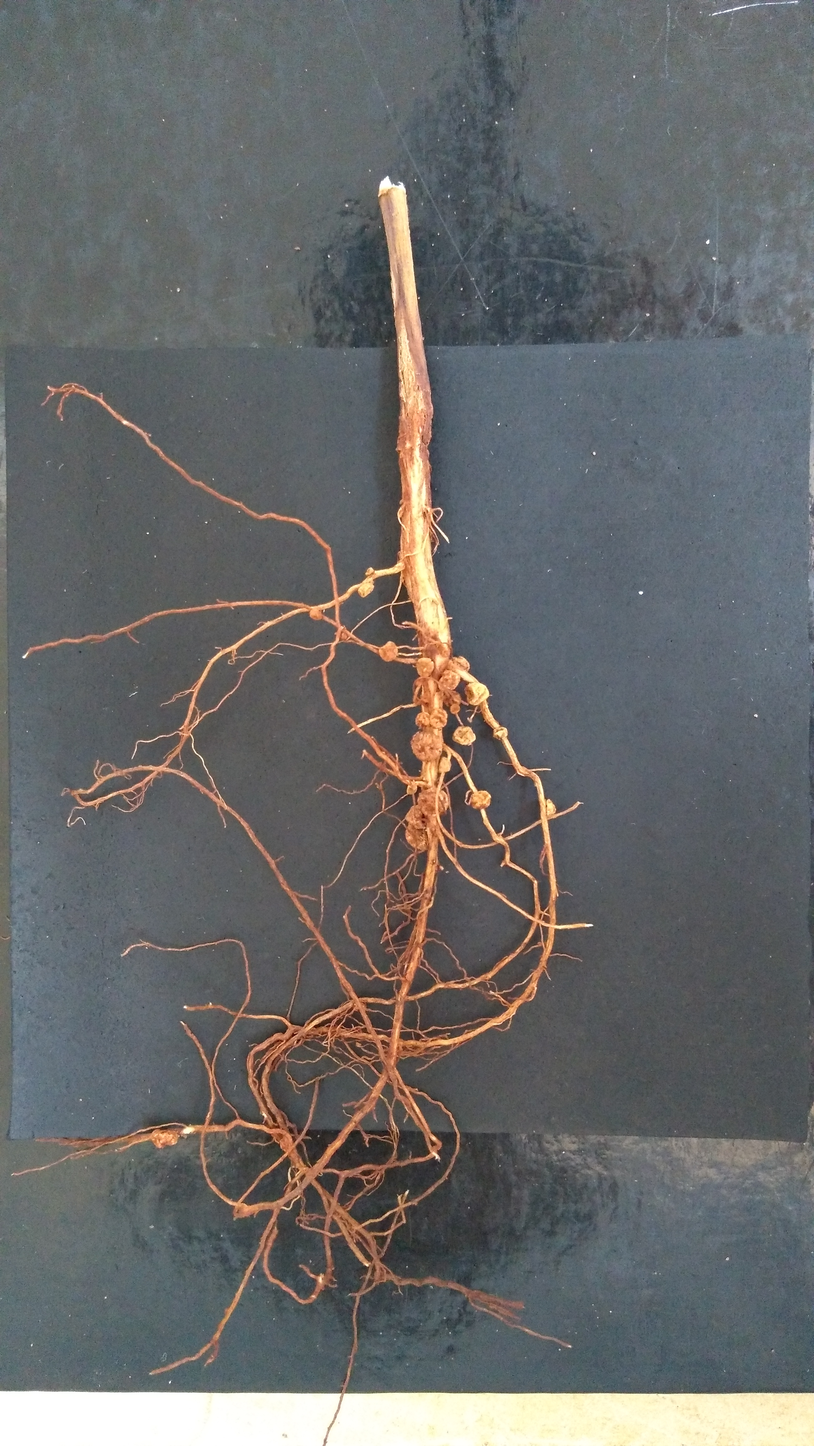nodule: (409, 728, 444, 762), (415, 786, 450, 816), (401, 822, 430, 852), (463, 680, 492, 707), (149, 1127, 180, 1151), (404, 804, 427, 830), (450, 725, 478, 746), (414, 655, 437, 679), (439, 667, 462, 691), (378, 638, 400, 663), (468, 789, 493, 811), (428, 707, 449, 730), (441, 689, 462, 707), (451, 654, 471, 672), (436, 755, 454, 774), (356, 582, 375, 599), (414, 711, 432, 728), (544, 797, 558, 818), (492, 726, 510, 742), (307, 608, 324, 621), (405, 780, 418, 795), (449, 701, 461, 716), (365, 567, 375, 577), (339, 631, 348, 642)
